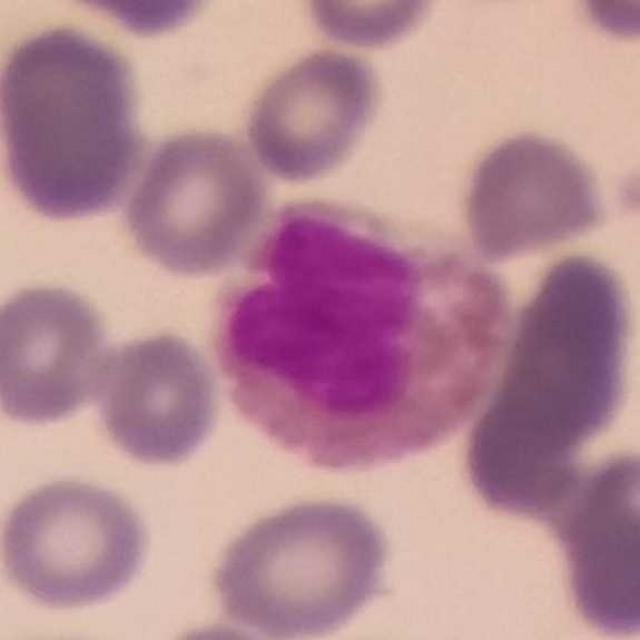Eosinophil: (212, 196, 505, 476)
RBC: (464, 242, 640, 508), (0, 18, 149, 227), (207, 491, 397, 640), (118, 123, 270, 280), (0, 469, 158, 616), (454, 124, 612, 264), (237, 44, 390, 188), (86, 325, 226, 472), (0, 275, 120, 431), (551, 442, 640, 640), (293, 0, 448, 53), (41, 0, 227, 39), (562, 0, 640, 47), (169, 615, 278, 640)
